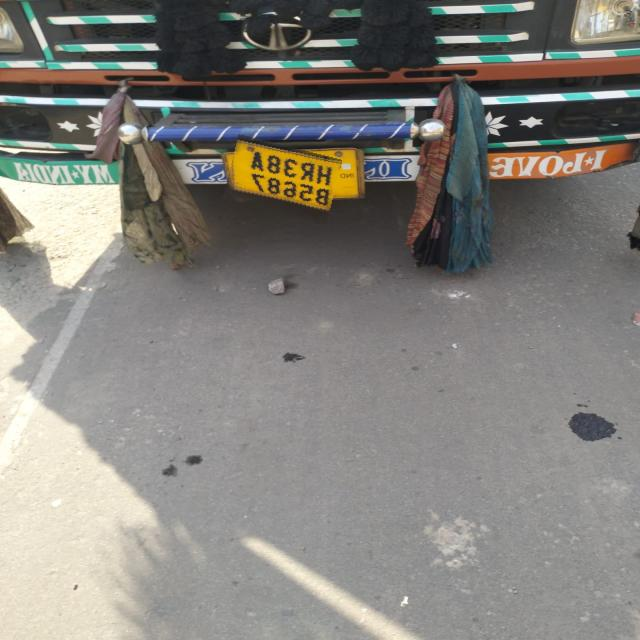License-plate: (226, 140, 339, 219)
